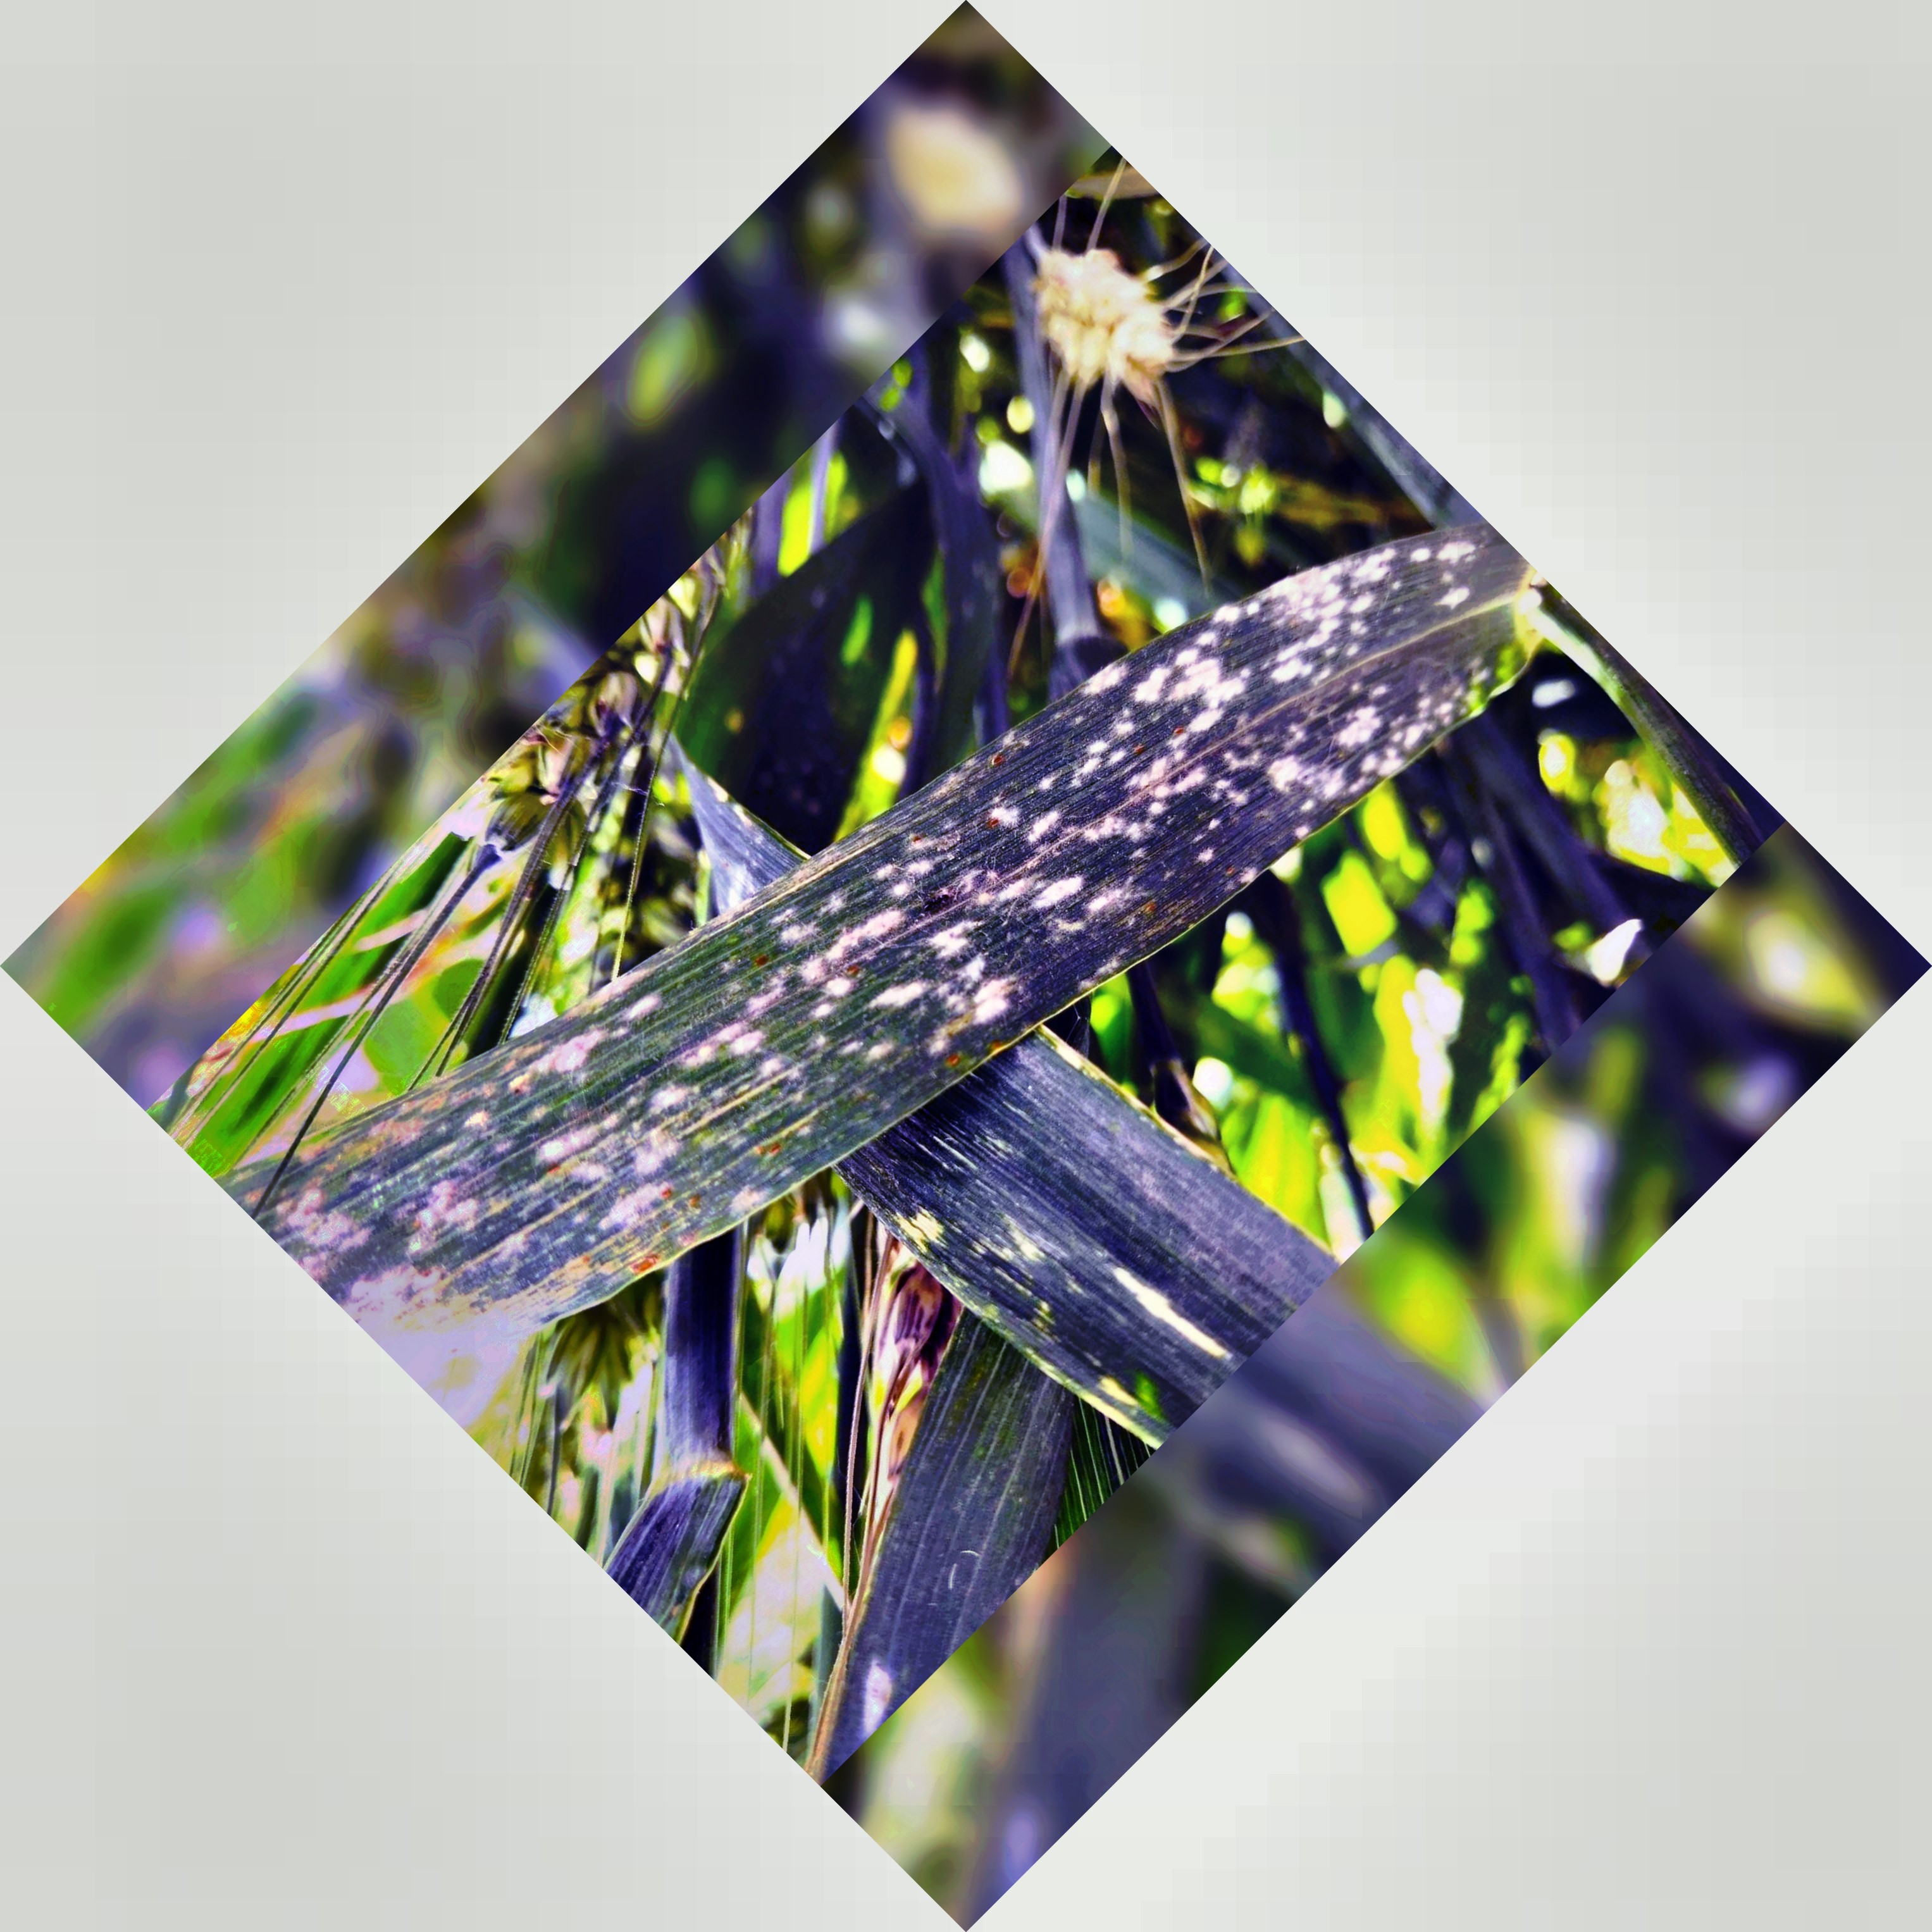Powdery Mildew: (570, 554, 1435, 1208)
